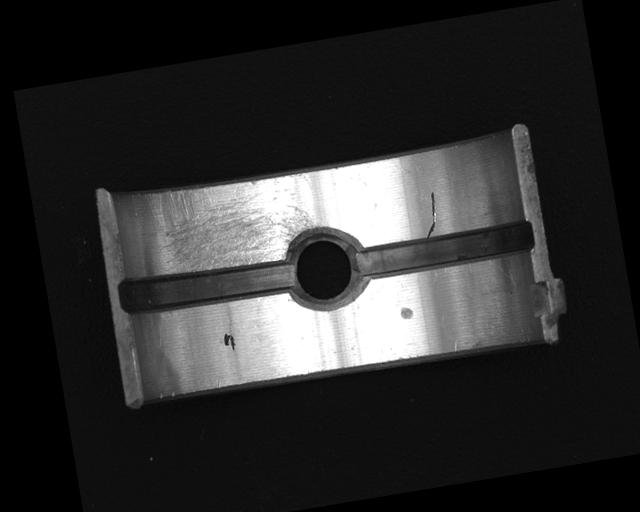blot: (222, 331, 236, 352)
bruise: (399, 305, 414, 321)
gap: (352, 217, 538, 283), (116, 253, 299, 319)
hole: (280, 220, 370, 316)
nick: (420, 191, 442, 240)
scratch: (148, 166, 323, 281)
